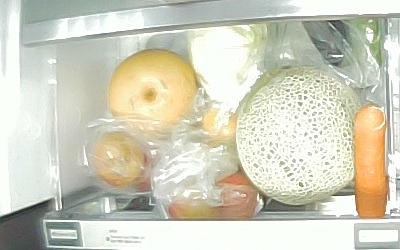cabbage: (188, 22, 268, 97)
carrot: (353, 104, 389, 218)
eggplant_vinyl: (302, 18, 352, 67)
melon: (235, 67, 366, 208)
pear: (107, 49, 199, 138)
prune_vinyl: (90, 130, 146, 186), (214, 171, 256, 220), (167, 198, 222, 221)
tangerine_vinyl: (202, 103, 238, 139)
zucchini_vinyl: (355, 17, 384, 82)
